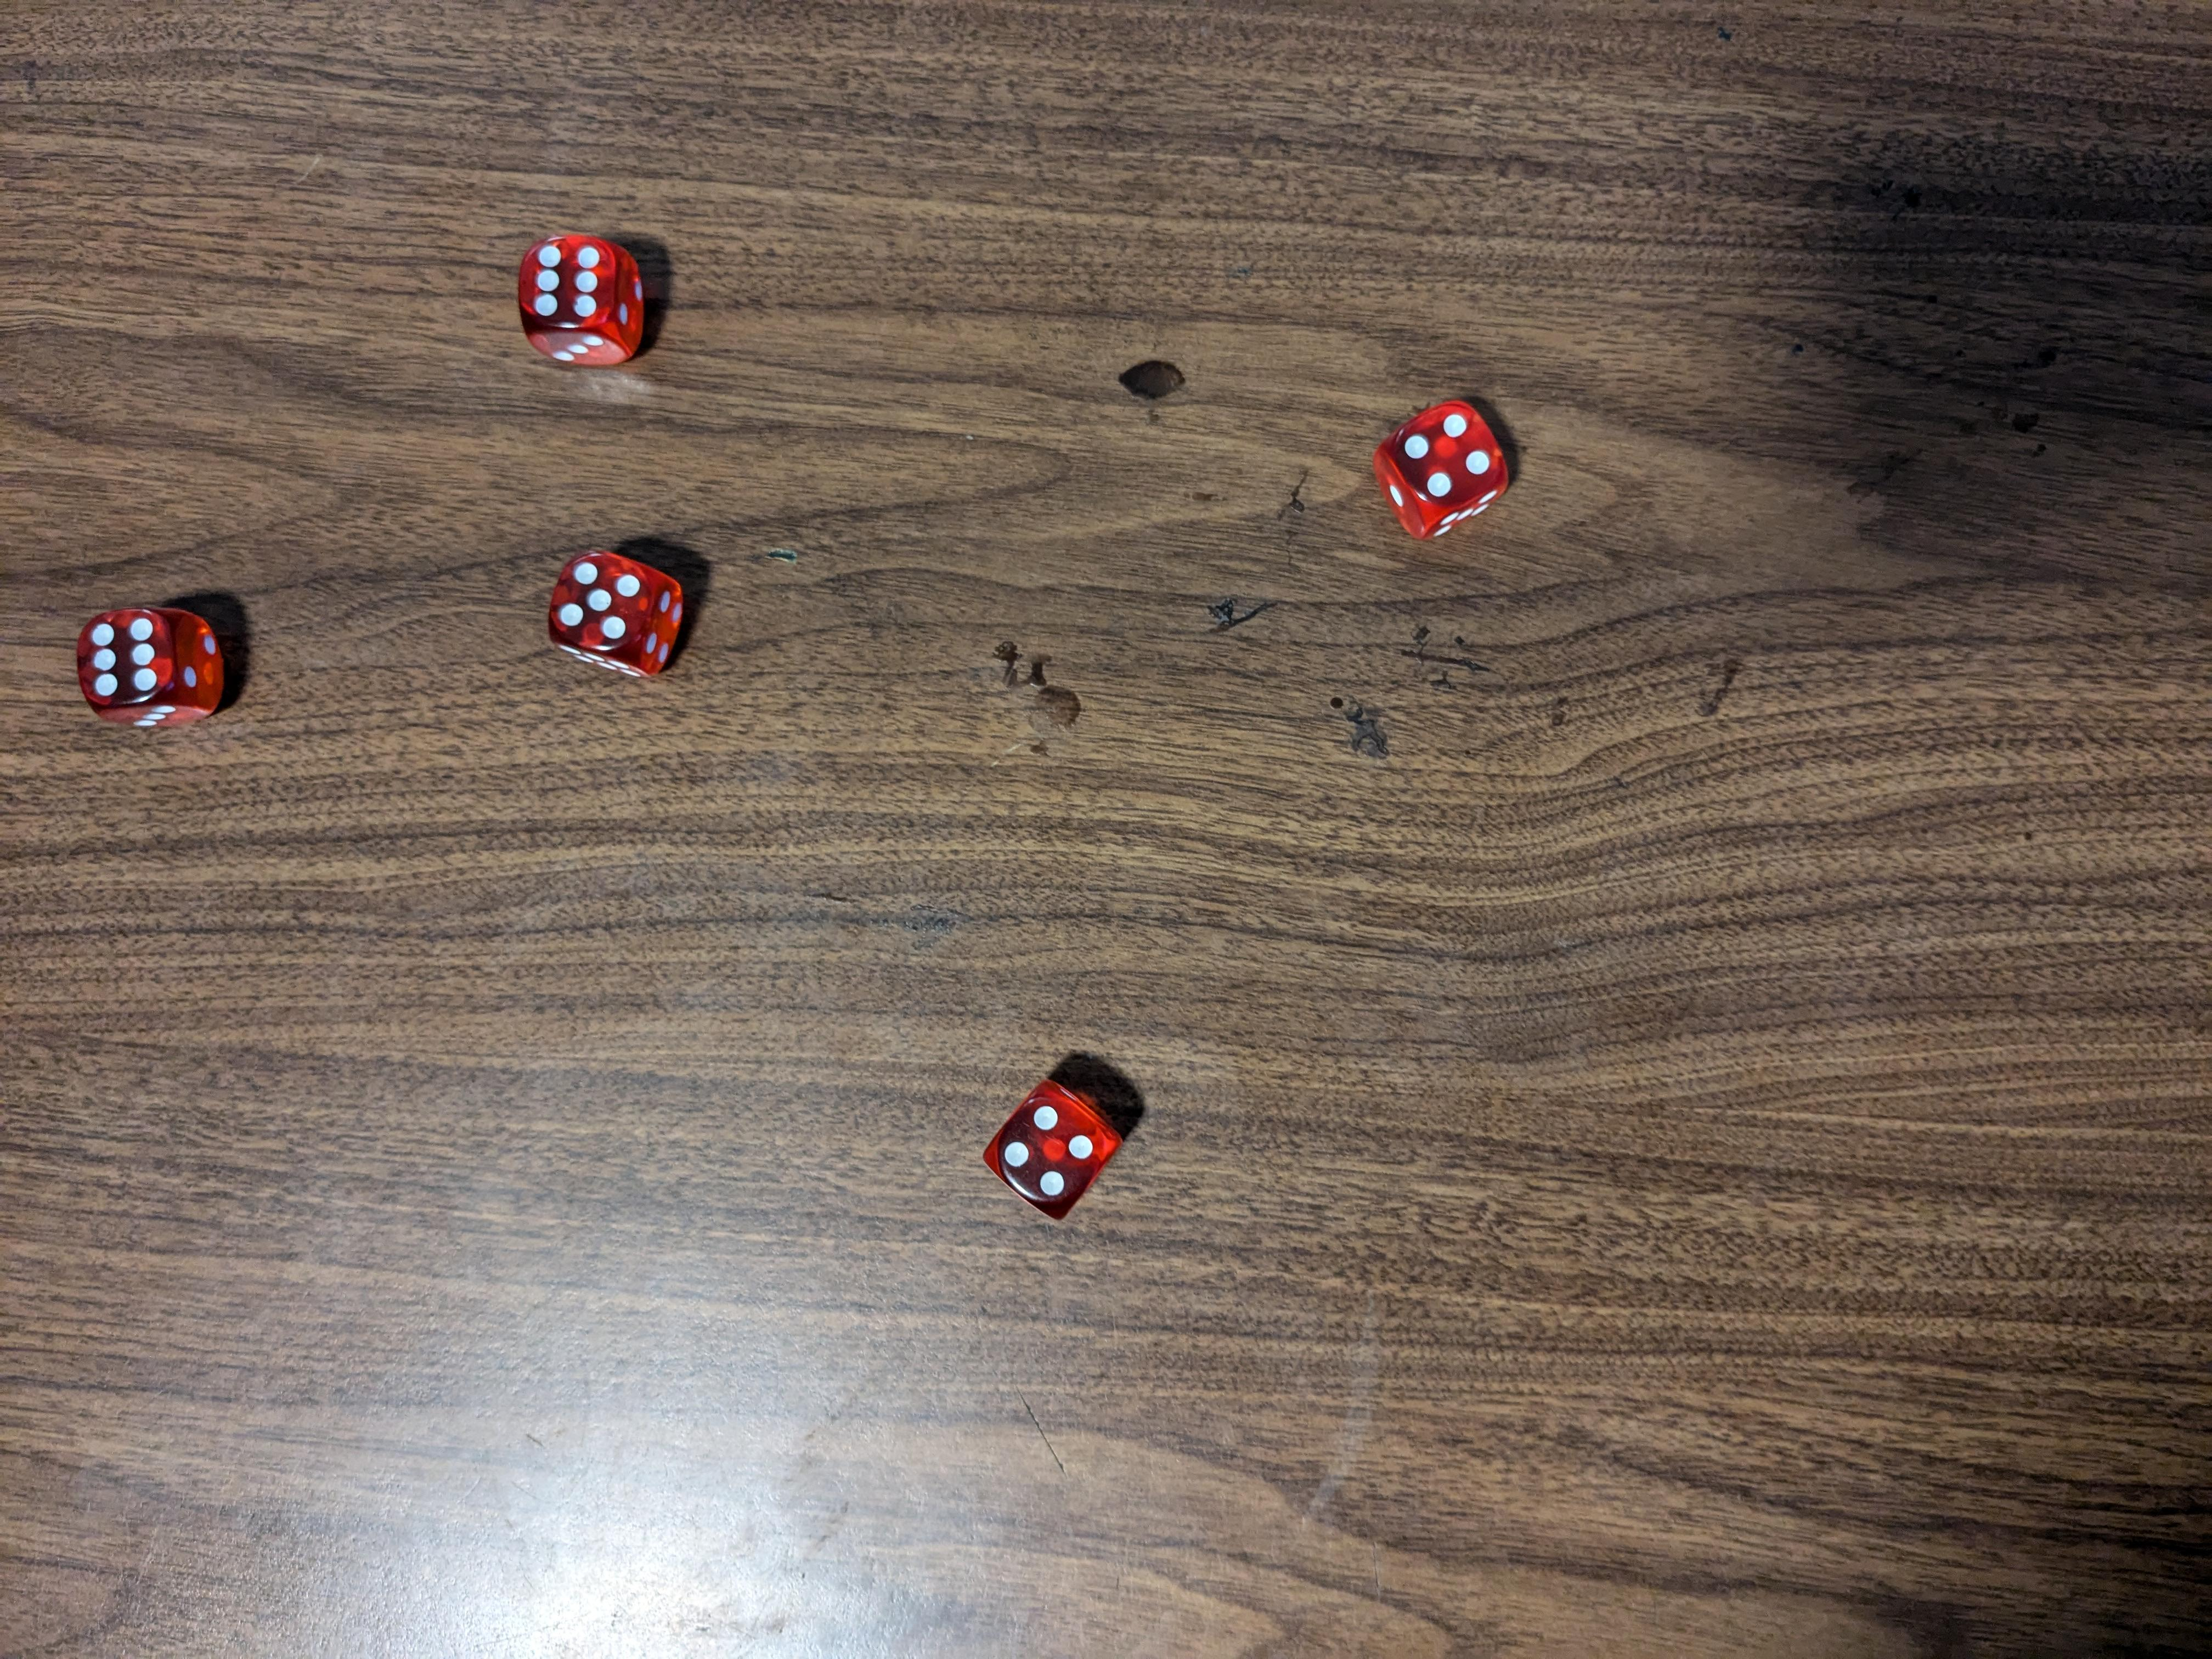five: (540, 547, 688, 683)
four: (977, 1079, 1130, 1227), (1369, 397, 1521, 544)
six: (77, 606, 235, 735), (512, 230, 650, 373)
